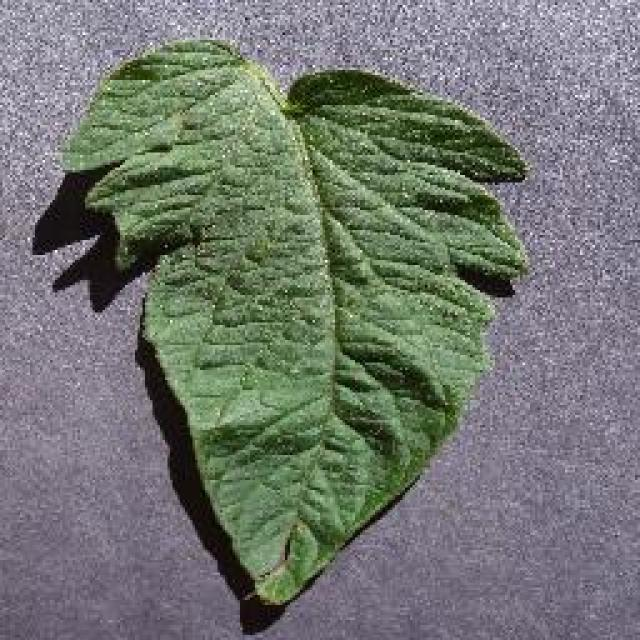Tomato___healthy: (54, 34, 536, 608)
